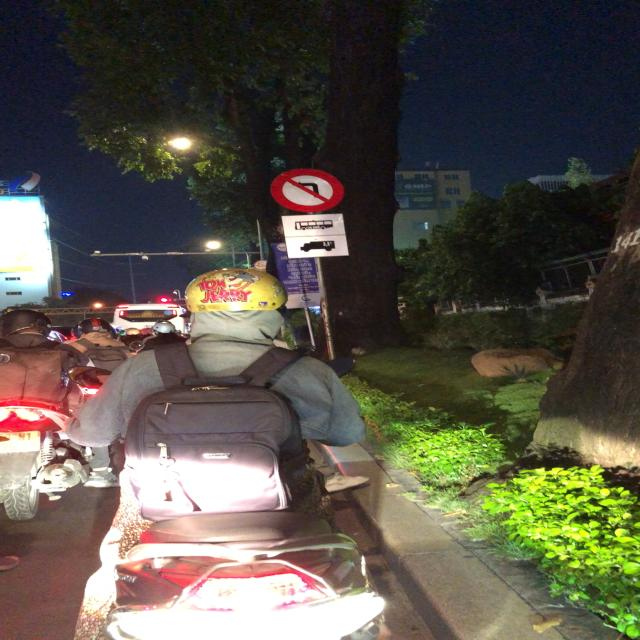Bien bao cam re trai: (266, 165, 343, 214)
